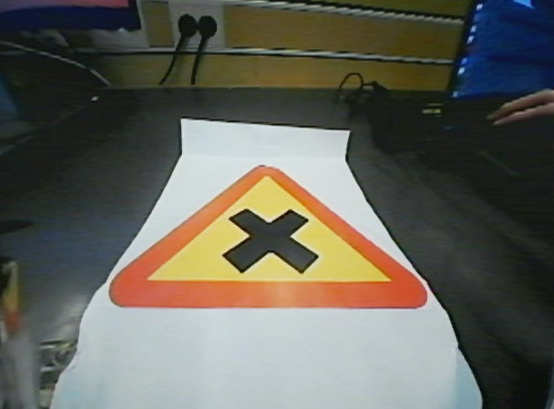junction: (101, 159, 451, 318)
